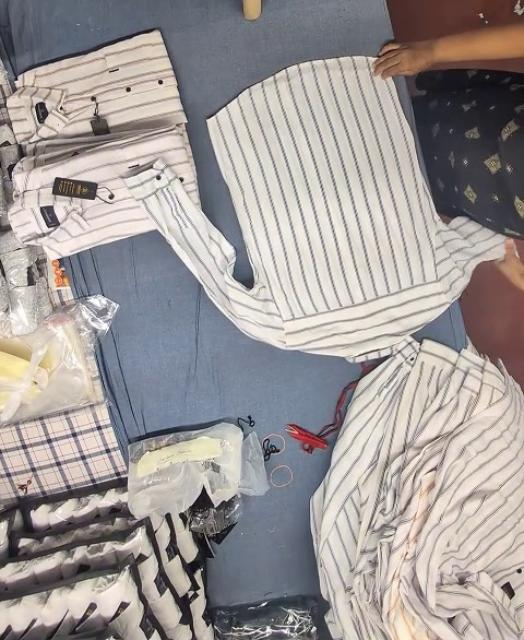new-garment: (131, 57, 503, 358)
